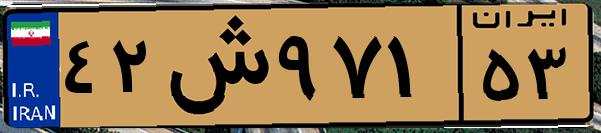1: (385, 28, 445, 110)
2: (110, 28, 158, 98)
3: (525, 38, 570, 115)
4: (57, 26, 110, 100)
5: (475, 38, 525, 113)
7: (330, 28, 385, 110)
9: (270, 28, 330, 110)
ش: (158, 12, 270, 120)
